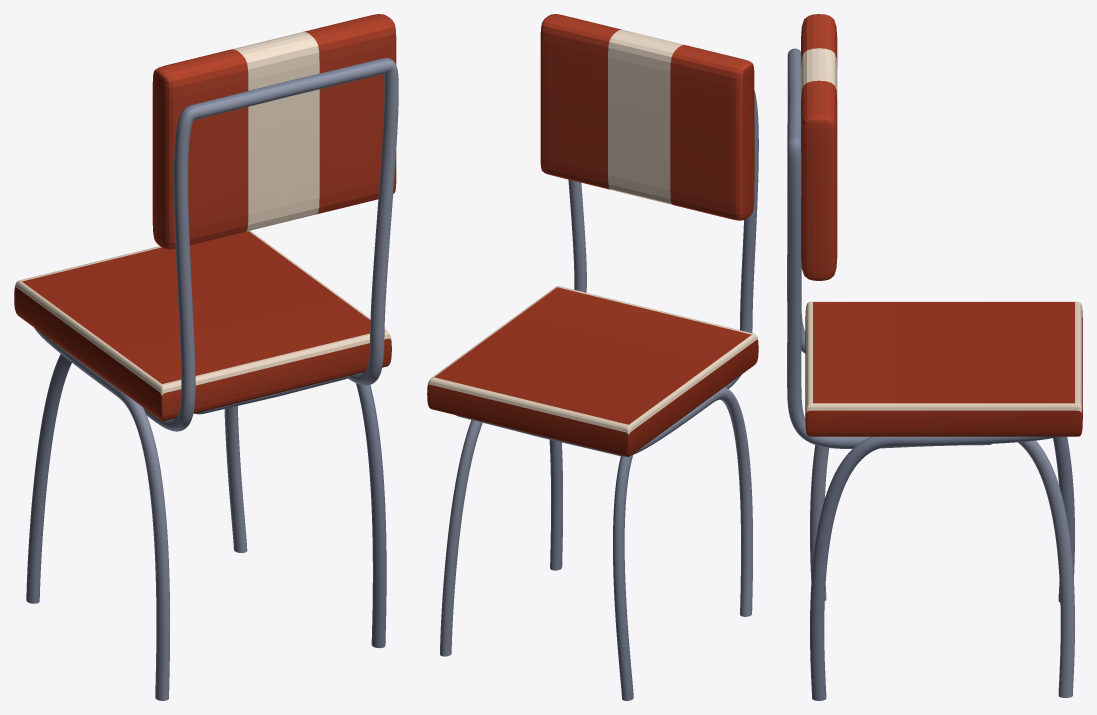
Rendered from Chair con Uv.fbx.
3 views of the same model, side by side, from view 1: azimuth 30°, elevation 25°; view 2: azimuth 150°, elevation 25°; view 3: azimuth 270°, elevation 25° (orthographic). The views are drawn at different scales.
Parts seen in each view (by area): view 1: Chair; view 2: Chair; view 3: Chair.
Boxes of the visible parts, x1,y1,x2,y2 form: Chair: (14,14,398,700); Chair: (427,14,758,700); Chair: (787,14,1082,700).
Bounding box in the file's own units: 194 × 490 × 224.
